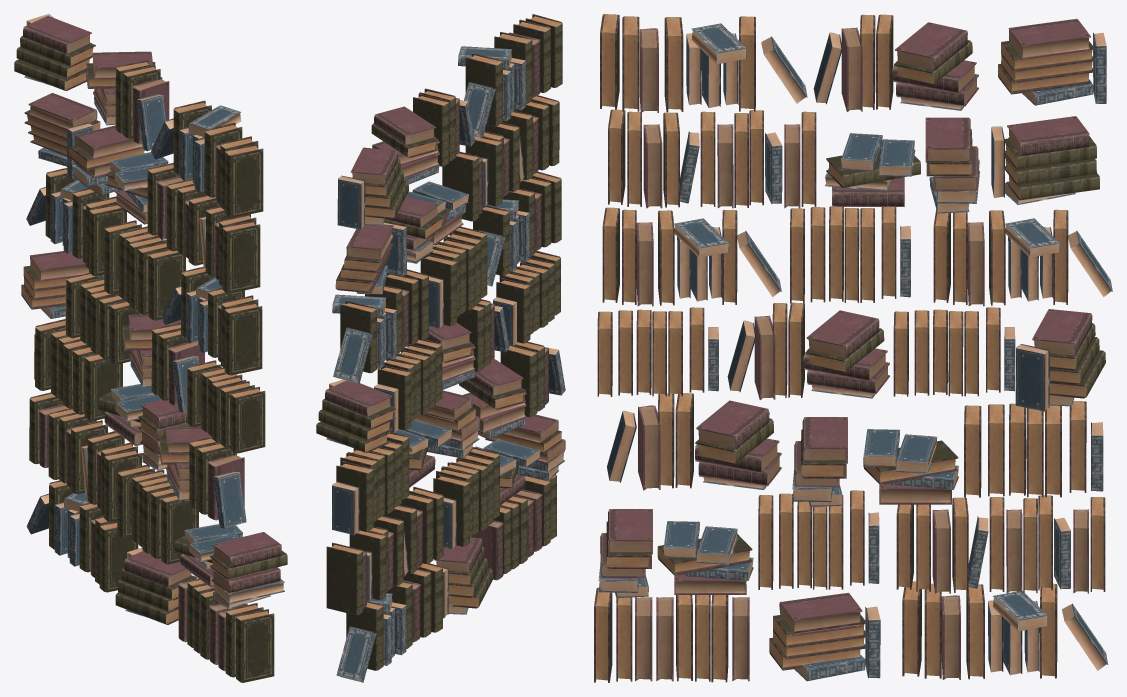
Rendered from SM_books_01_abb5ef.glb.
The picture shows the model from 3 angles, left to right: view 1: azimuth 30°, elevation 25°; view 2: azimuth 150°, elevation 25°; view 3: azimuth 270°, elevation 25°; orthographic projection. The views are drawn at different scales.
Size of the model in its own units: 0.4539 by 2.56 by 1.86.
Materials: 1 (1 with a texture image).
